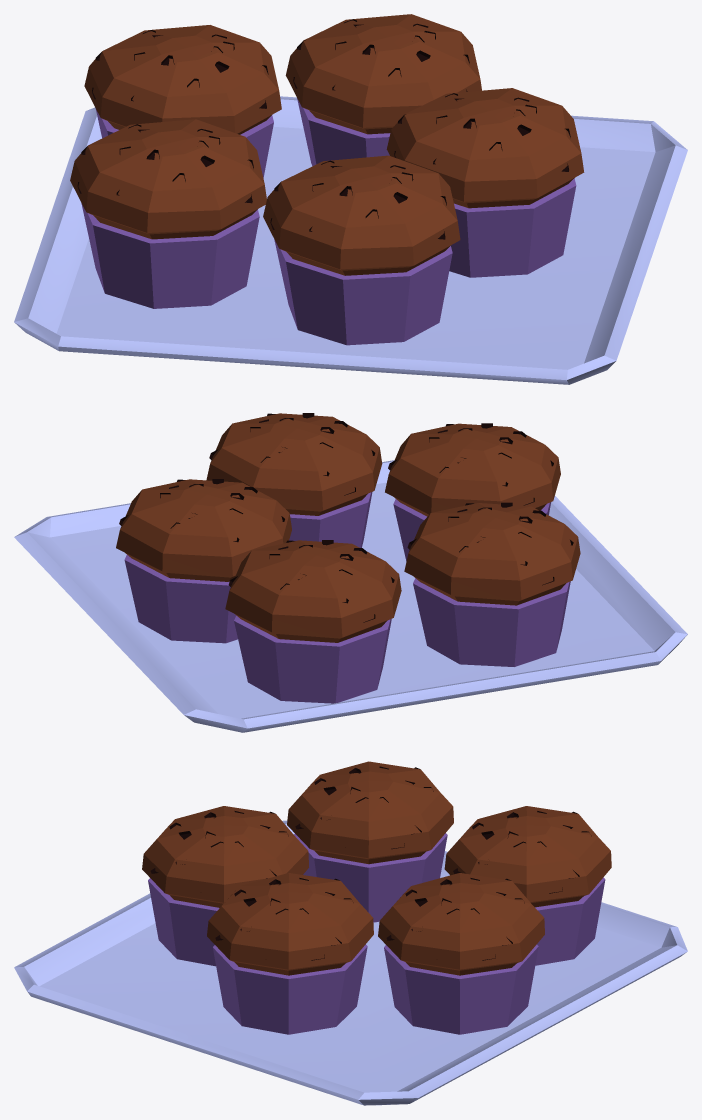
The model's file is magdalenitas.fbx.
The picture shows the model from 3 angles, top to bottom: view 1: azimuth 30°, elevation 25°; view 2: azimuth 150°, elevation 25°; view 3: azimuth 270°, elevation 25°; orthographic projection. The views are drawn at different scales.
Parts seen in each view (by area): view 1: muffin; view 2: muffin; view 3: muffin.
Boxes of the visible parts, x1,y1,x2,y2 form: muffin: (14, 14, 687, 384); muffin: (14, 413, 687, 732); muffin: (14, 761, 687, 1105).
Bounding box in the file's own units: 32.7 × 6.93 × 33.
